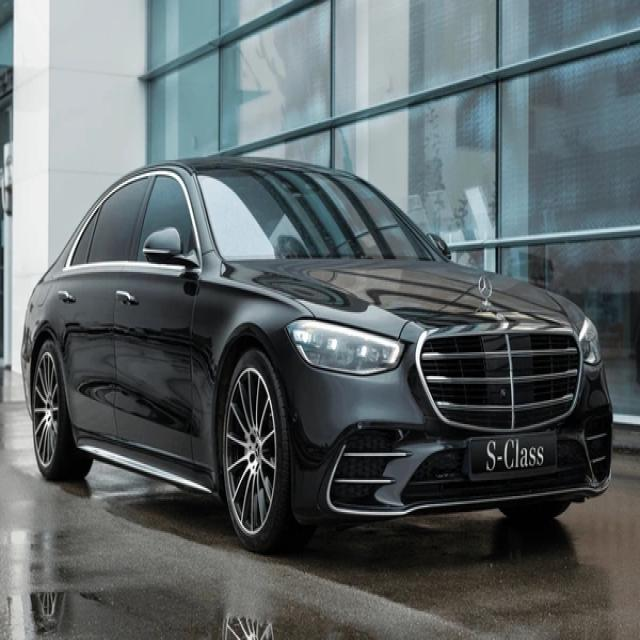mercedes: (476, 268, 493, 311)
